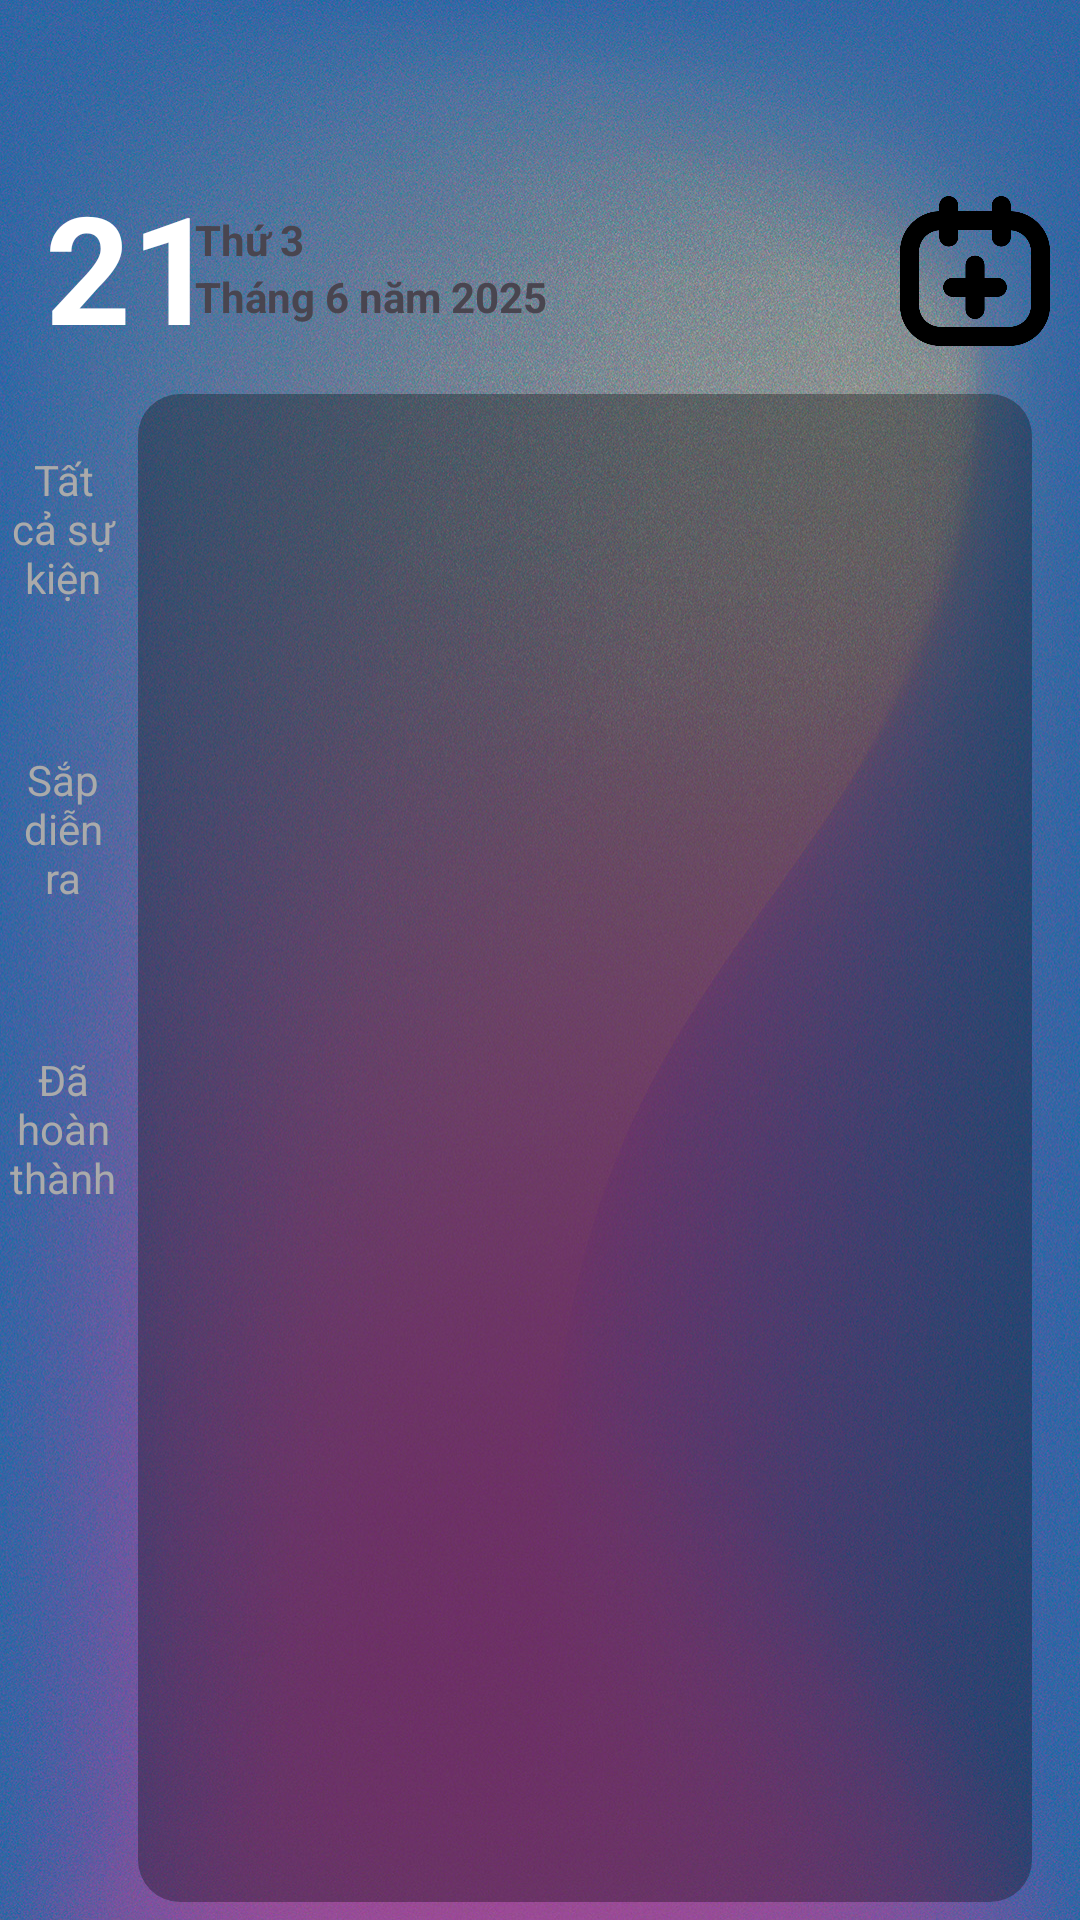

Named icons in this screenshot (1080px×1920px) and their centers, point (x, y):
add: point (975, 271)
